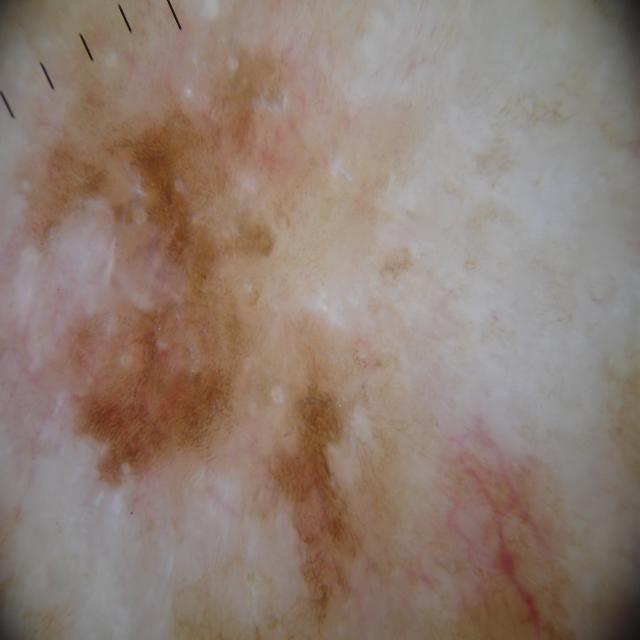Skin-Cancer Melanoma: (20, 41, 587, 588)
